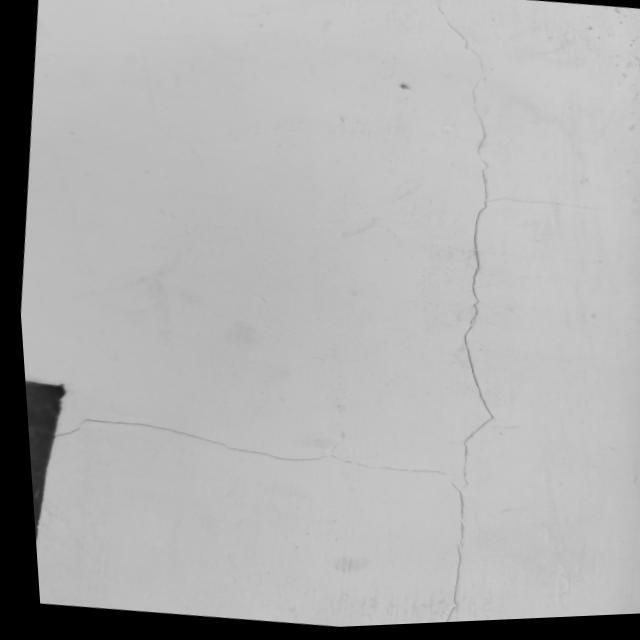Crack: (434, 0, 495, 614), (64, 412, 433, 472)
